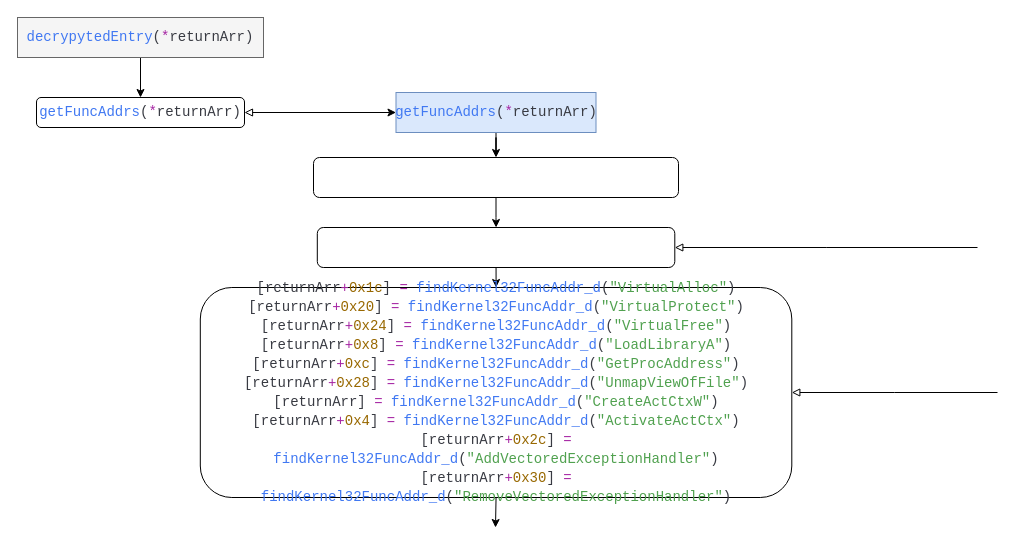
This 1023x553 diagram has some shape labels left out. Each missing label, with the box of its shape:
newXMem = [returnArr + 0x54 ] newXMemMinus0x400000 = [returnArr + 0x58 ]: (312, 156, 678, 198)
useRelocTable (newXMem, newXMemMinus0x400000): (316, 226, 675, 268)
